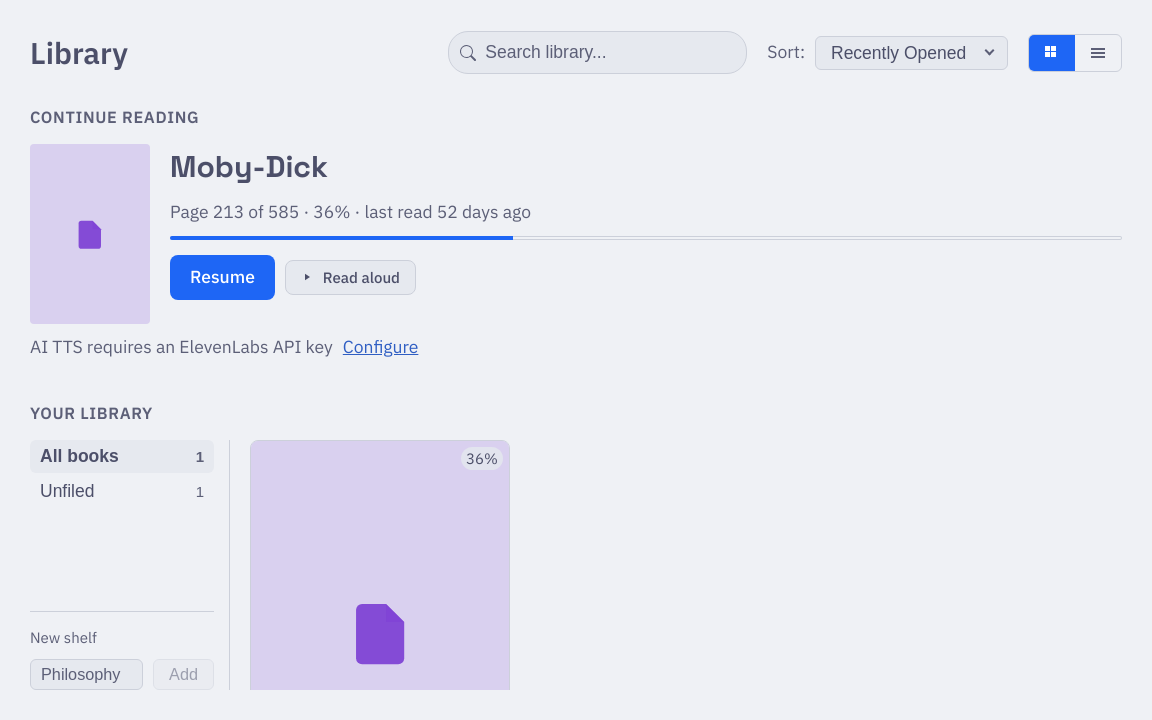
Test: the library search empty state › says no results (not no recent documents) when a query matches nothing
Type "zzzz" into the field with placeholder "Search library...".
click(598, 52); type("zzzz")  # box [448,31,747,74]
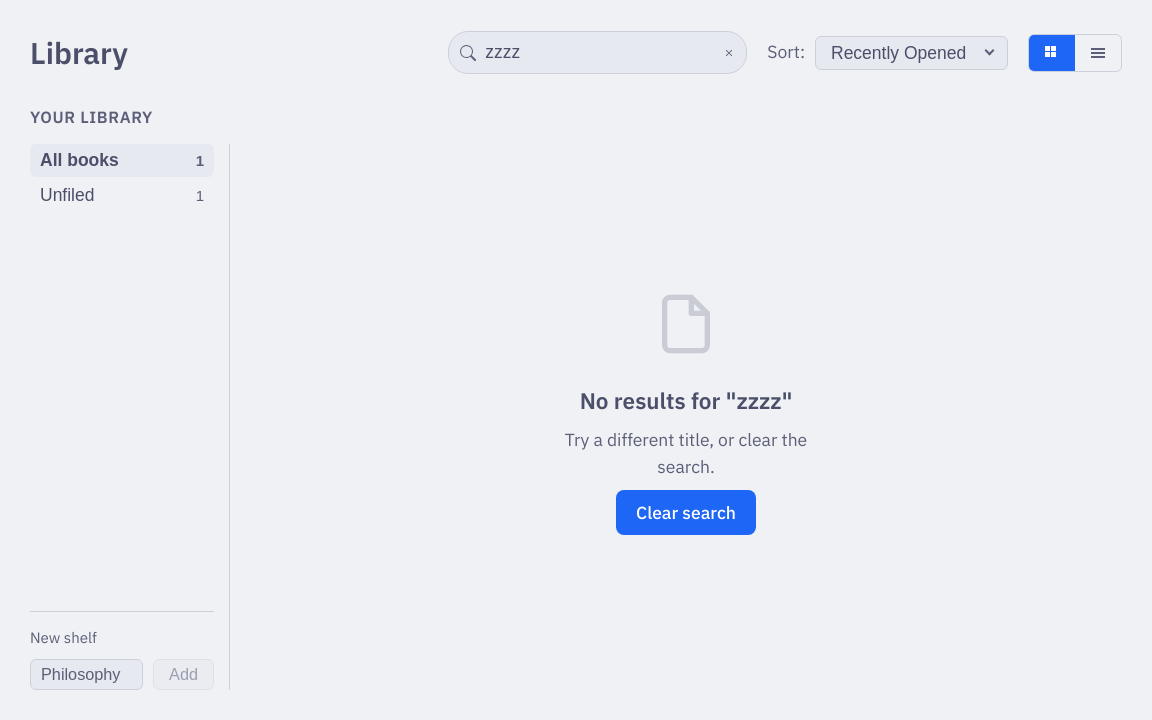
Check: the heading "No results for \"zzzz\"" is shown, box [580,384,792,417]
Check: the text "Try a different title, or clear the search." is shown, box [546,427,826,480]
